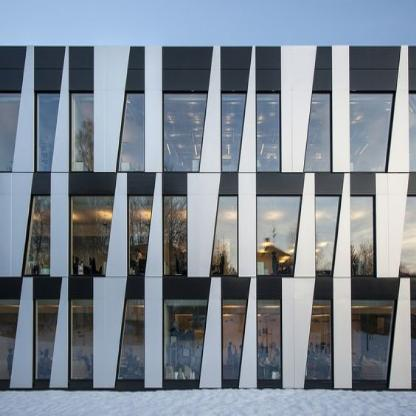Building Outline: (0, 45, 415, 389)
Facade: (0, 45, 415, 389)
Floor Slab: (1, 278, 415, 299), (1, 172, 415, 193)
Window: (350, 92, 393, 172), (257, 196, 300, 276), (164, 93, 208, 171), (71, 196, 114, 275), (164, 301, 207, 379), (352, 301, 395, 379), (211, 196, 238, 275), (118, 93, 145, 171), (305, 301, 332, 379), (24, 196, 50, 275), (118, 301, 144, 379), (128, 196, 153, 275), (305, 93, 330, 171), (350, 196, 374, 276), (222, 94, 246, 172), (35, 301, 59, 379), (223, 301, 247, 379), (316, 196, 339, 276), (164, 196, 187, 275), (71, 93, 94, 171), (257, 94, 280, 172), (37, 93, 60, 171), (257, 301, 280, 379), (71, 301, 93, 379), (0, 93, 21, 171), (0, 301, 20, 379), (400, 196, 416, 276), (409, 93, 416, 171), (411, 301, 416, 379)
